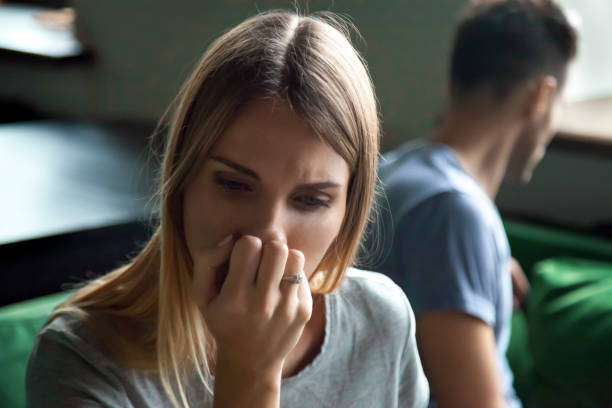without mask: (182, 75, 367, 321), (423, 1, 584, 189)
